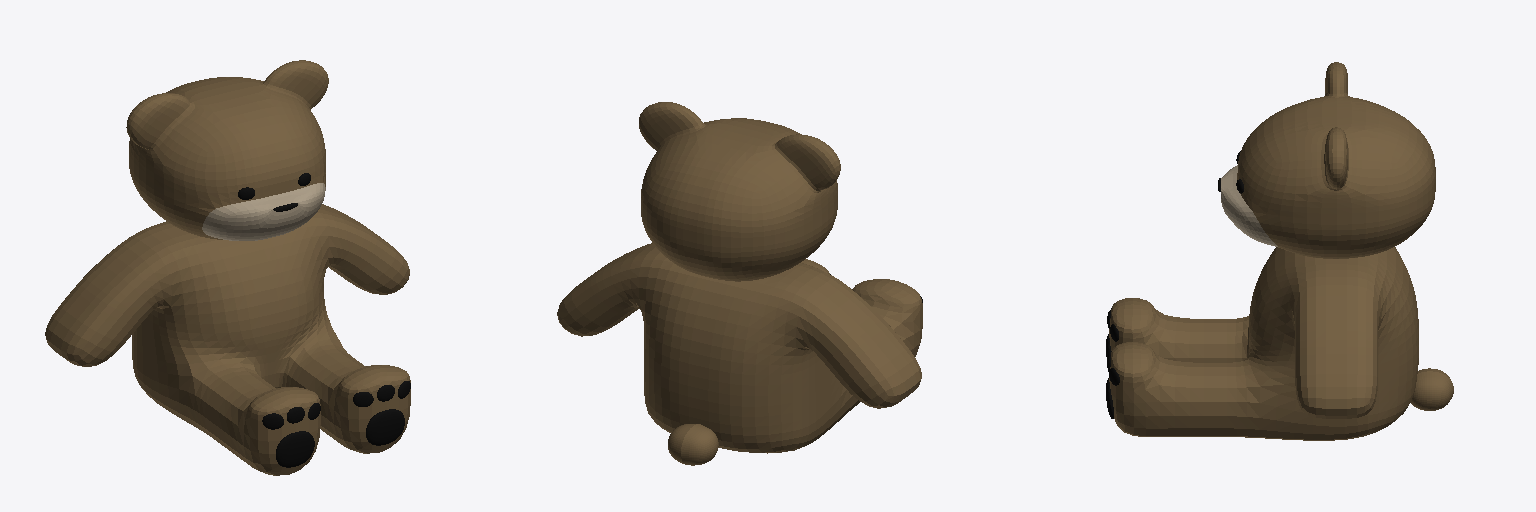
File: bear.obj
3 renders of one model, left to right at view 1: azimuth 30°, elevation 25°; view 2: azimuth 150°, elevation 25°; view 3: azimuth 270°, elevation 25°, orthographic.
Size of the model in its own units: 0.9116 by 0.7918 by 0.7974.